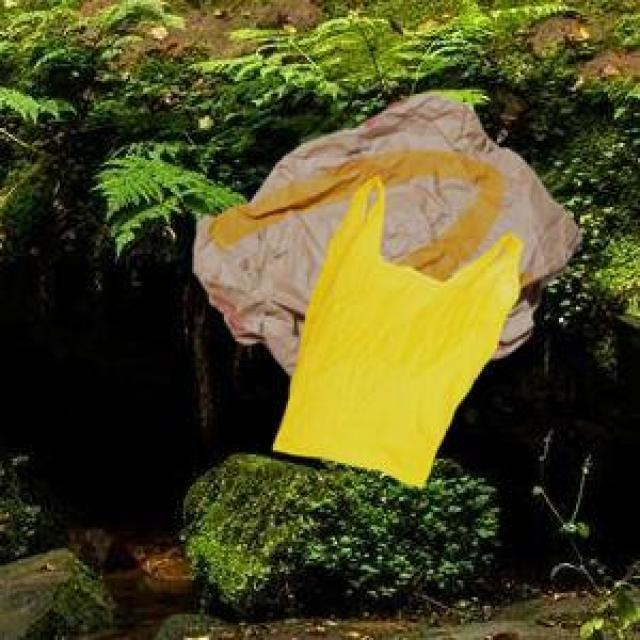paper: (190, 90, 578, 376)
